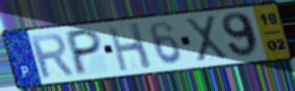6: (148, 20, 183, 67)
9: (222, 10, 263, 60)
H: (105, 21, 154, 73)
P: (66, 27, 103, 78)
R: (27, 32, 76, 81)
X: (182, 14, 231, 64)
